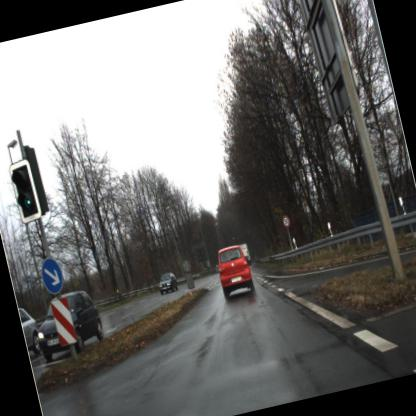mandatory: (36, 252, 70, 298)
prohibitory: (277, 210, 294, 232)
